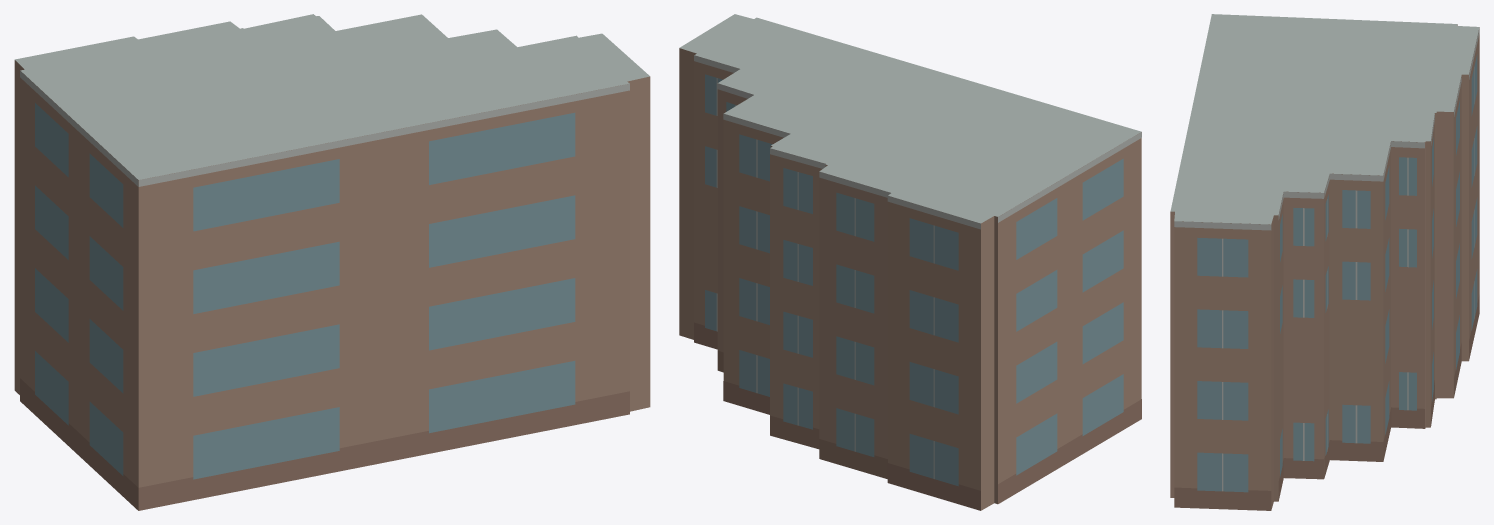
Rendered from survey-upis-33033238.glb.
3 views of the same model, side by side, from view 1: azimuth 30°, elevation 25°; view 2: azimuth 150°, elevation 25°; view 3: azimuth 270°, elevation 25° (orthographic). The views are drawn at different scales.
Parts seen in each view (by area): view 1: survey-upis-33033238.tmp; view 2: survey-upis-33033238.tmp; view 3: survey-upis-33033238.tmp.
Boxes of the visible parts, x1,y1,x2,y2 form: survey-upis-33033238.tmp: (14, 14, 650, 510); survey-upis-33033238.tmp: (679, 14, 1141, 510); survey-upis-33033238.tmp: (1170, 14, 1479, 510).
Bounding box in the file's own units: 18.37 × 11.65 × 11.41.
